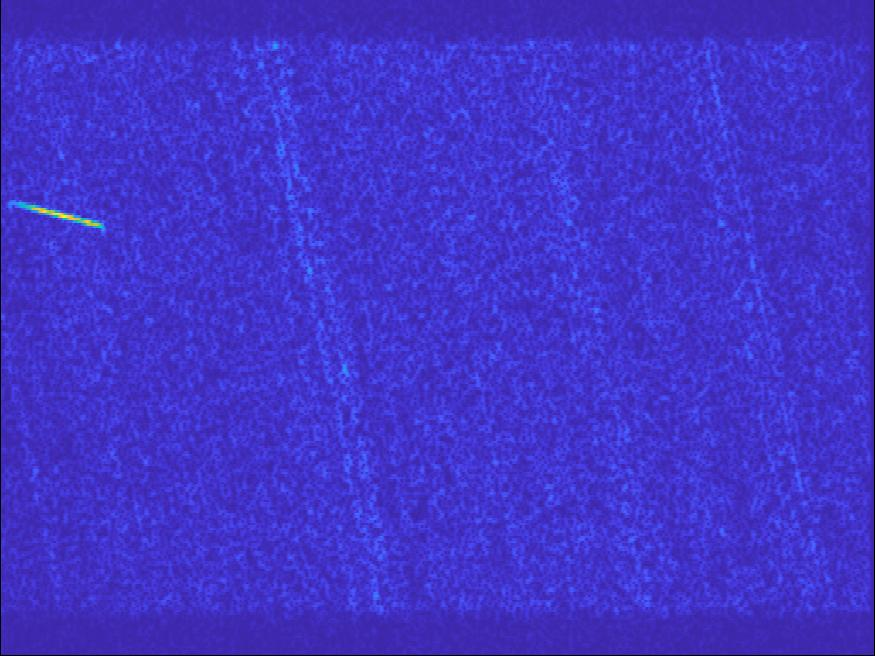Interference: (618, 259, 762, 439), (537, 253, 616, 323), (796, 317, 864, 370)
